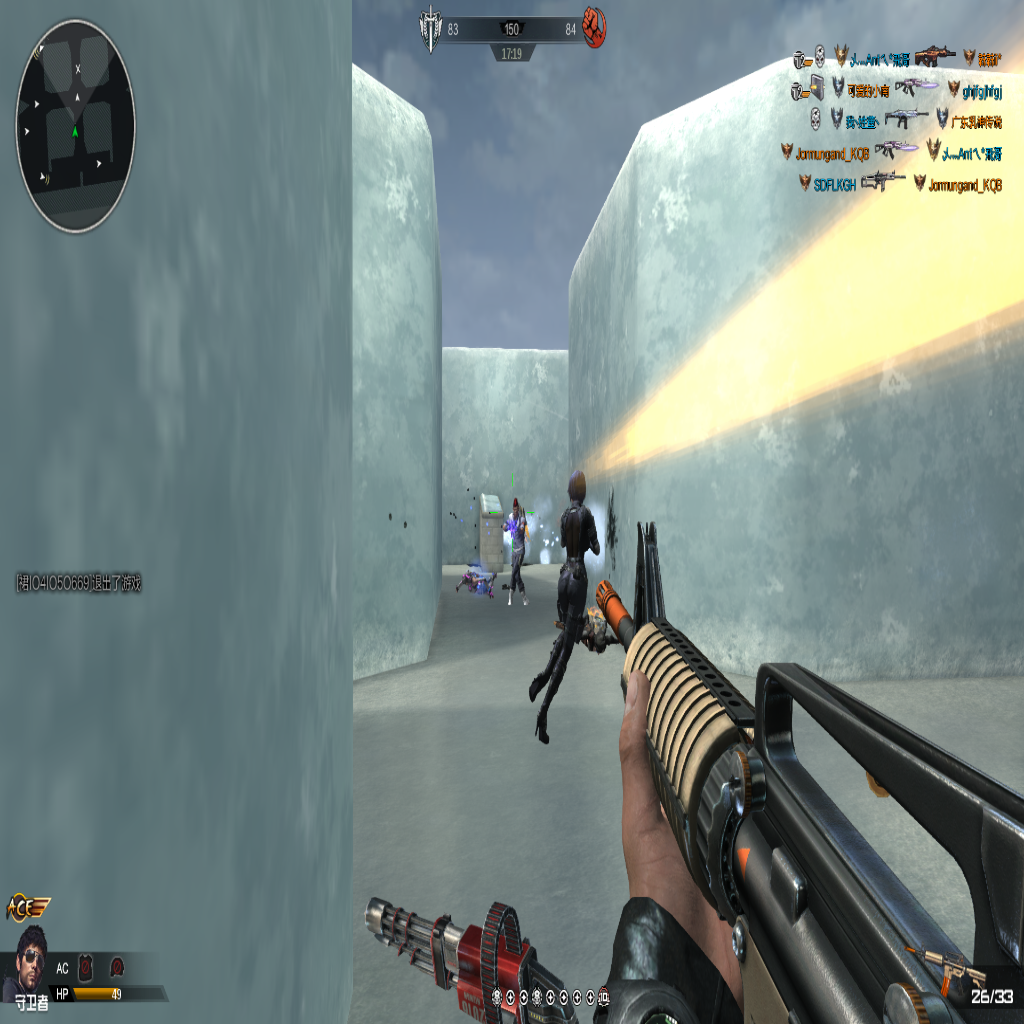ct: (526, 468, 606, 744)
tt: (506, 494, 530, 607)
